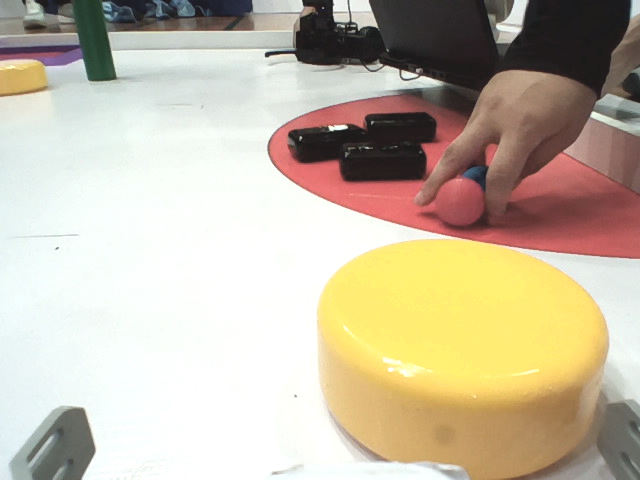black: (340, 139, 426, 181), (286, 119, 365, 158), (360, 106, 439, 141)
blue: (456, 162, 502, 205)
kuang: (312, 238, 616, 474), (1, 59, 50, 96)
red: (433, 177, 484, 227)
zhuzi: (74, 1, 119, 83)
